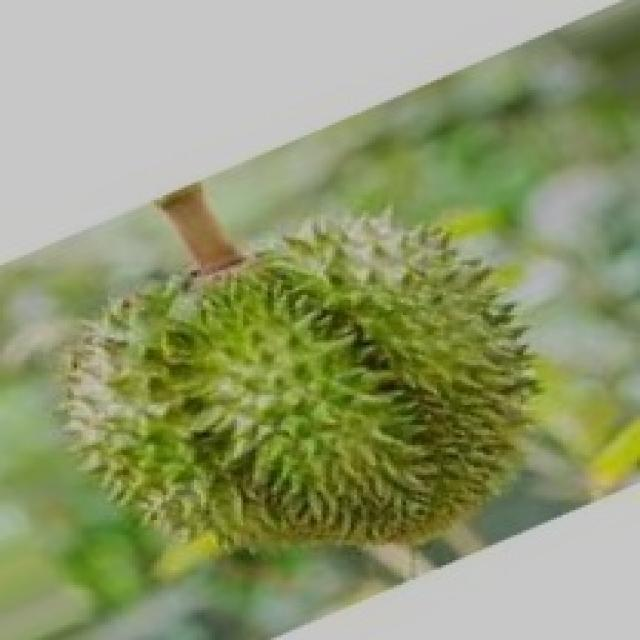fruit: (6, 220, 397, 615), (280, 187, 585, 595)
